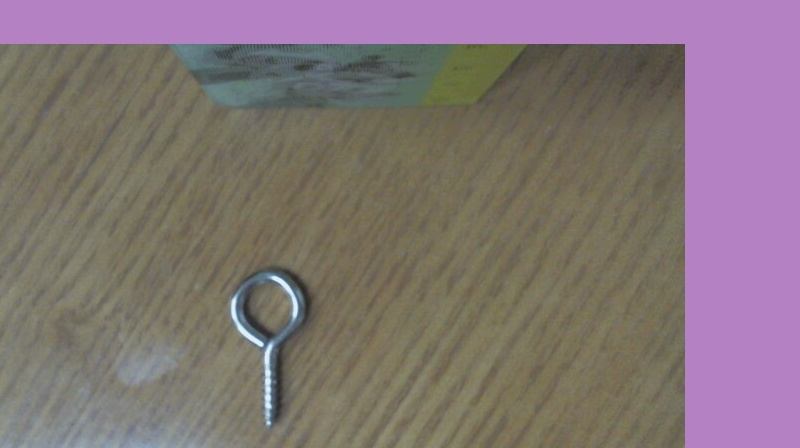O001: (222, 259, 314, 429)
